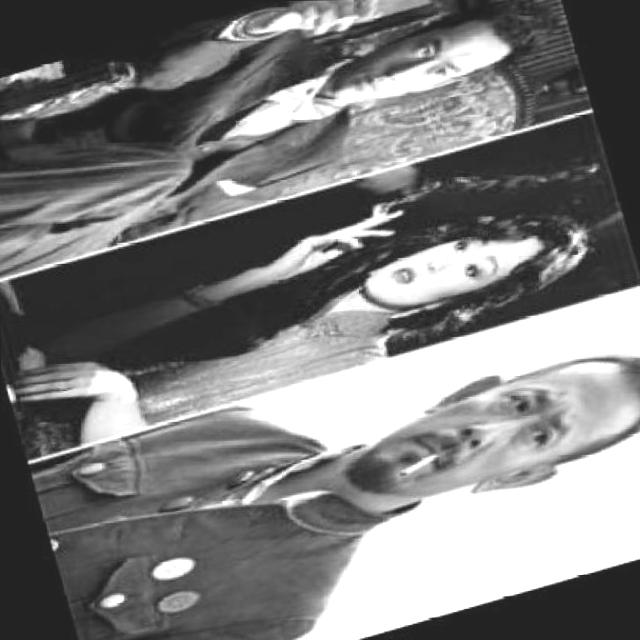cigarette: (391, 450, 448, 484), (326, 10, 368, 32), (366, 202, 392, 225)
